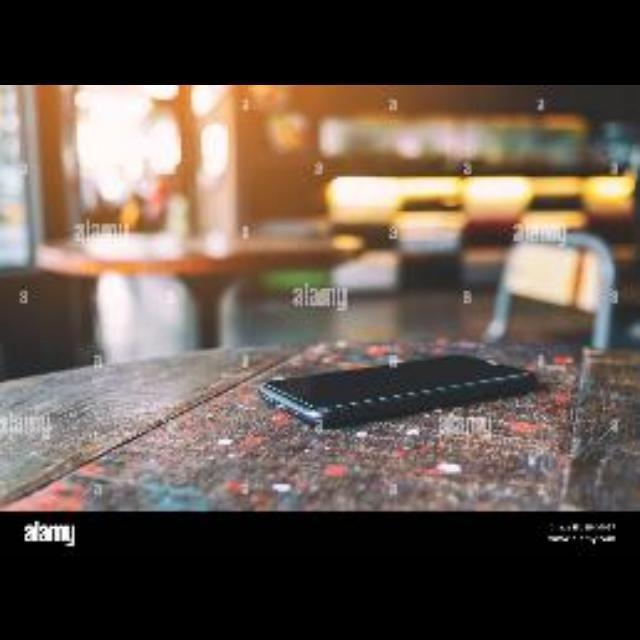phone: (258, 348, 543, 446)
